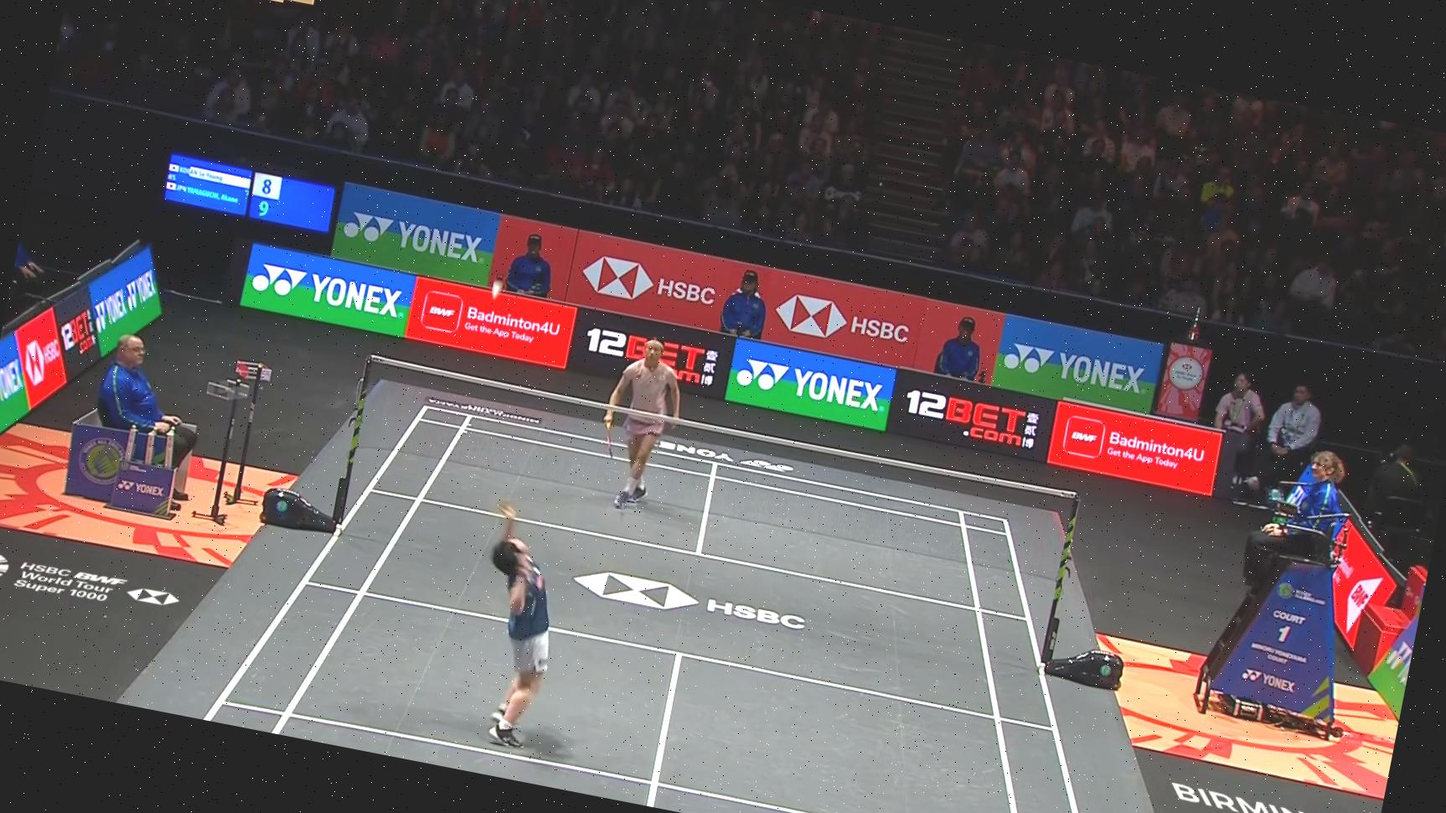Player 1: (571, 319, 718, 526)
Player 2: (437, 489, 600, 764)
shuttle: (480, 272, 511, 306)
